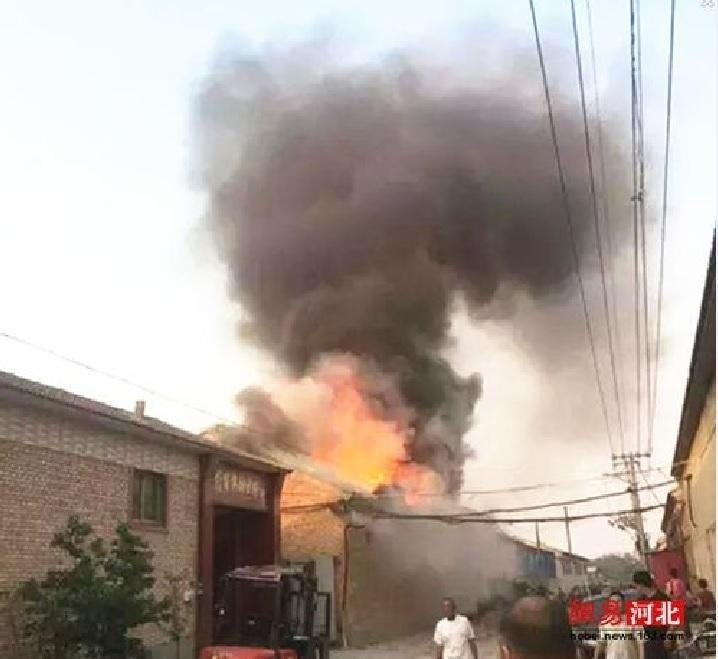fire: (317, 393, 405, 491)
